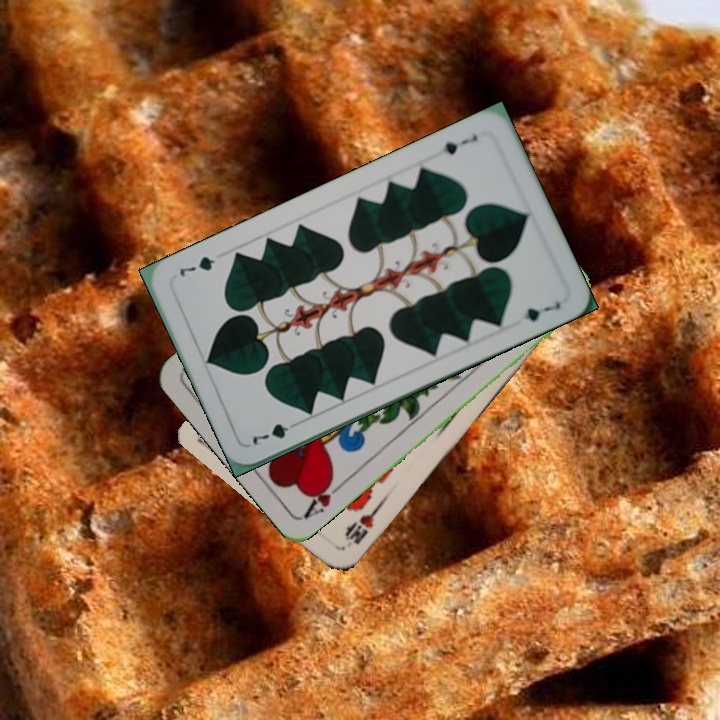G7: (248, 416, 303, 448), (438, 130, 480, 158)
H10: (340, 501, 383, 547)
HA: (299, 473, 348, 522)
